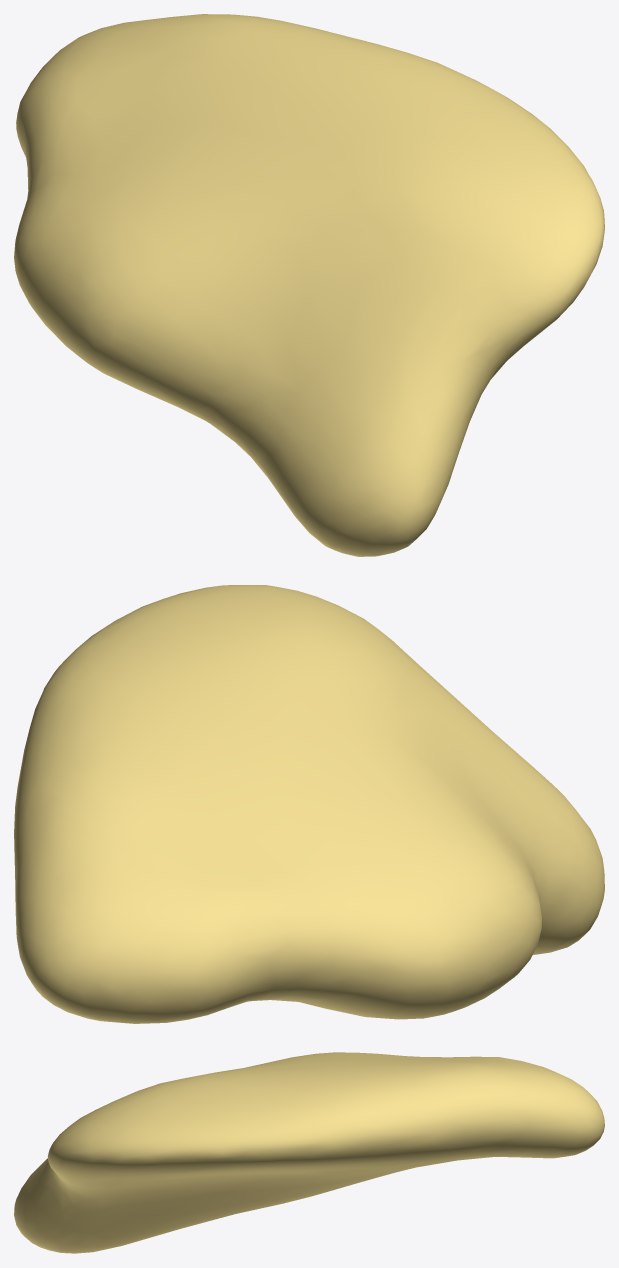
Rendered from fma74047-r_mm3006m.glb.
The picture shows the model from 3 angles, top to bottom: view 1: azimuth 30°, elevation 25°; view 2: azimuth 150°, elevation 25°; view 3: azimuth 270°, elevation 25°; orthographic projection. The views are drawn at different scales.
Parts seen in each view (by area): view 1: FMA74047-R_MM3006M; view 2: FMA74047-R_MM3006M; view 3: FMA74047-R_MM3006M.
Part boxes in pixels (bbox=[...]): FMA74047-R_MM3006M: bbox=[14, 14, 604, 556]; FMA74047-R_MM3006M: bbox=[14, 585, 604, 1023]; FMA74047-R_MM3006M: bbox=[14, 1052, 604, 1253].
Bounding box in the file's own units: 0.00729 × 0.00501 × 0.0116.
